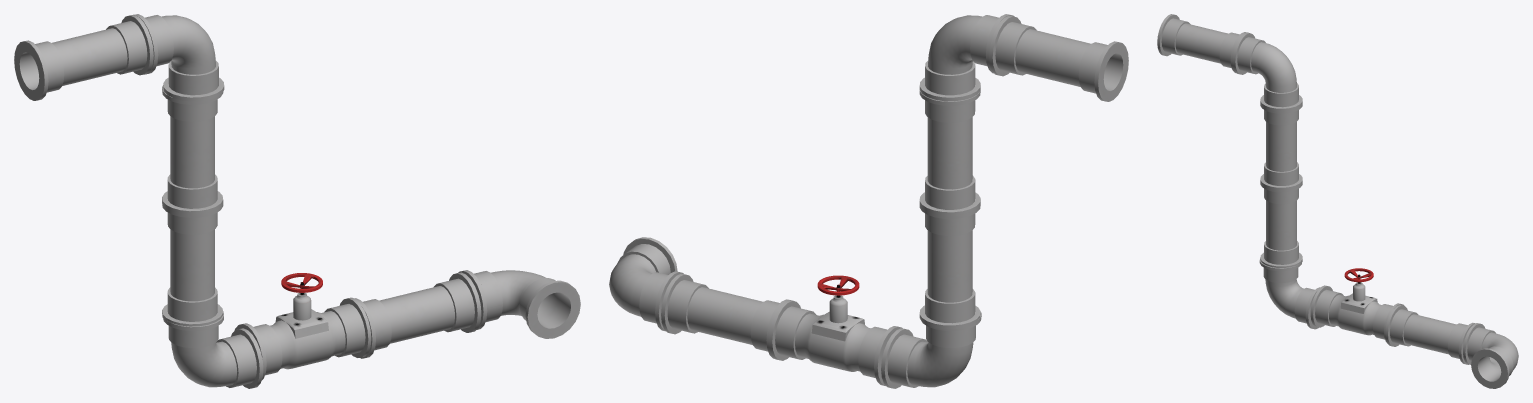
File: Tubes_lvl_70.fbx
3 renders of one model, left to right at view 1: azimuth 30°, elevation 25°; view 2: azimuth 150°, elevation 25°; view 3: azimuth 330°, elevation 25°, orthographic. The views are drawn at different scales.
Parts seen in each view (by area): view 1: Tube_Curve; view 2: Tube_Curve; view 3: Tube_Curve.
Boxes of the visible parts, x1=… form: Tube_Curve: x1=14, y1=14, x2=580, y2=388; Tube_Curve: x1=609, y1=14, x2=1128, y2=388; Tube_Curve: x1=1157, y1=14, x2=1518, y2=388.
Bounding box in the file's own units: 4004 × 2909 × 638.
Materials: 1 (1 with a texture image).
